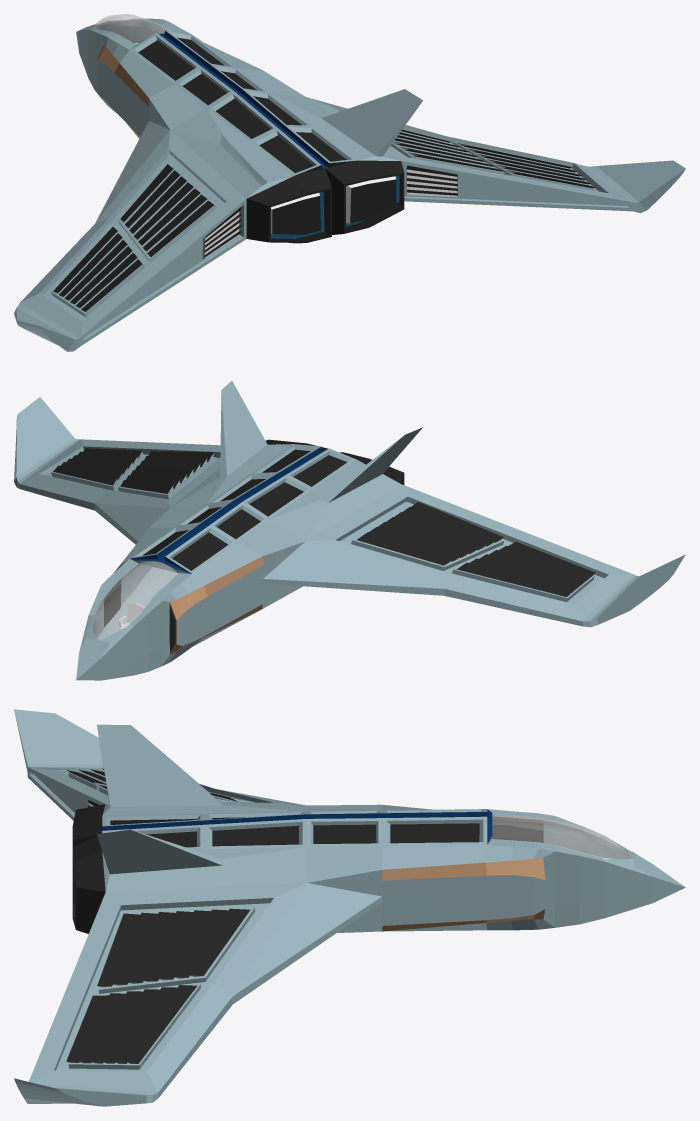
The model's file is wanderer.glb.
The picture shows the model from 3 angles, top to bottom: view 1: azimuth 30°, elevation 25°; view 2: azimuth 150°, elevation 25°; view 3: azimuth 270°, elevation 25°; orthographic projection. The views are drawn at different scales.
Parts seen in each view (by area): view 1: Cube, canope; view 2: Cube, canope; view 3: Cube, canope.
Part boxes in pixels (bbox=[...]): Cube: bbox=[14, 18, 685, 351]; canope: bbox=[93, 14, 170, 44]; Cube: bbox=[14, 381, 685, 680]; canope: bbox=[93, 561, 178, 639]; Cube: bbox=[14, 709, 685, 1106]; canope: bbox=[492, 815, 633, 859].
Bounding box in the file's own units: 31.69 × 6.41 × 24.
2 materials, 1 textured.
